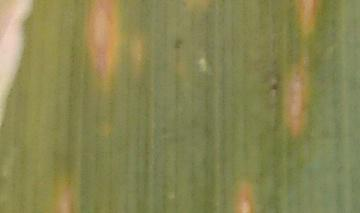tarspot: (270, 82, 279, 92)
